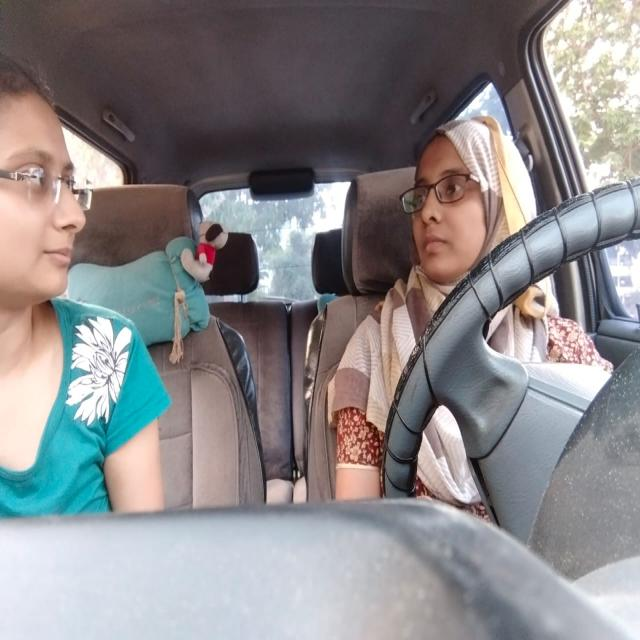LeftRight: (0, 70, 90, 304), (407, 138, 501, 282)
